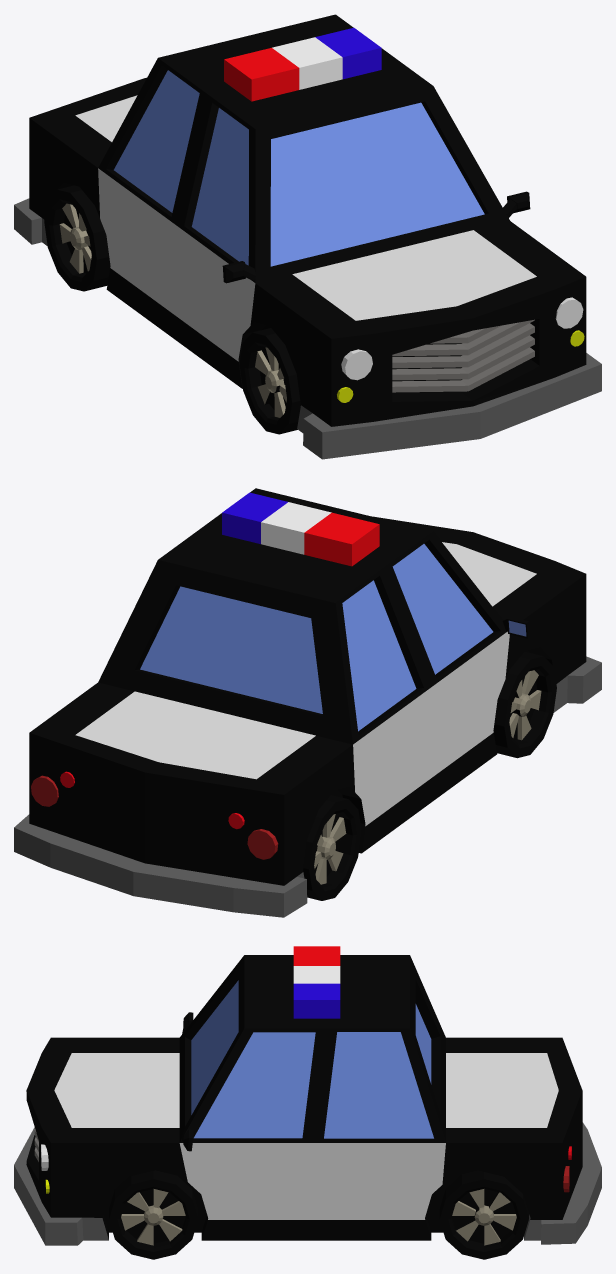
Rendered from PoliceCar.fbx.
The picture shows the model from 3 angles, top to bottom: view 1: azimuth 30°, elevation 25°; view 2: azimuth 150°, elevation 25°; view 3: azimuth 270°, elevation 25°; orthographic projection. The views are drawn at different scales.
Parts seen in each view (by area): view 1: Cube, Cylinder.006, Plane.001, Cube.001, Cylinder, Plane; view 2: Cube, Cylinder.006, Plane.001, Cylinder.004; view 3: Cube, Cylinder.006, Plane.001.
Part boxes in pixels (<box>): Cube: <box>14,14,601,459</box>; Cylinder.006: <box>44,185,300,434</box>; Plane.001: <box>224,27,381,101</box>; Cube.001: <box>392,319,534,392</box>; Cylinder: <box>341,297,583,380</box>; Plane: <box>222,191,530,283</box>; Cube: <box>14,488,601,917</box>; Cylinder.006: <box>303,651,556,900</box>; Plane.001: <box>222,492,379,566</box>; Cylinder.004: <box>31,775,278,859</box>; Cube: <box>14,955,601,1245</box>; Cylinder.006: <box>109,1170,528,1259</box>; Plane.001: <box>293,946,340,1018</box>.
Bounding box in the file's own units: 369 × 318 × 729.
